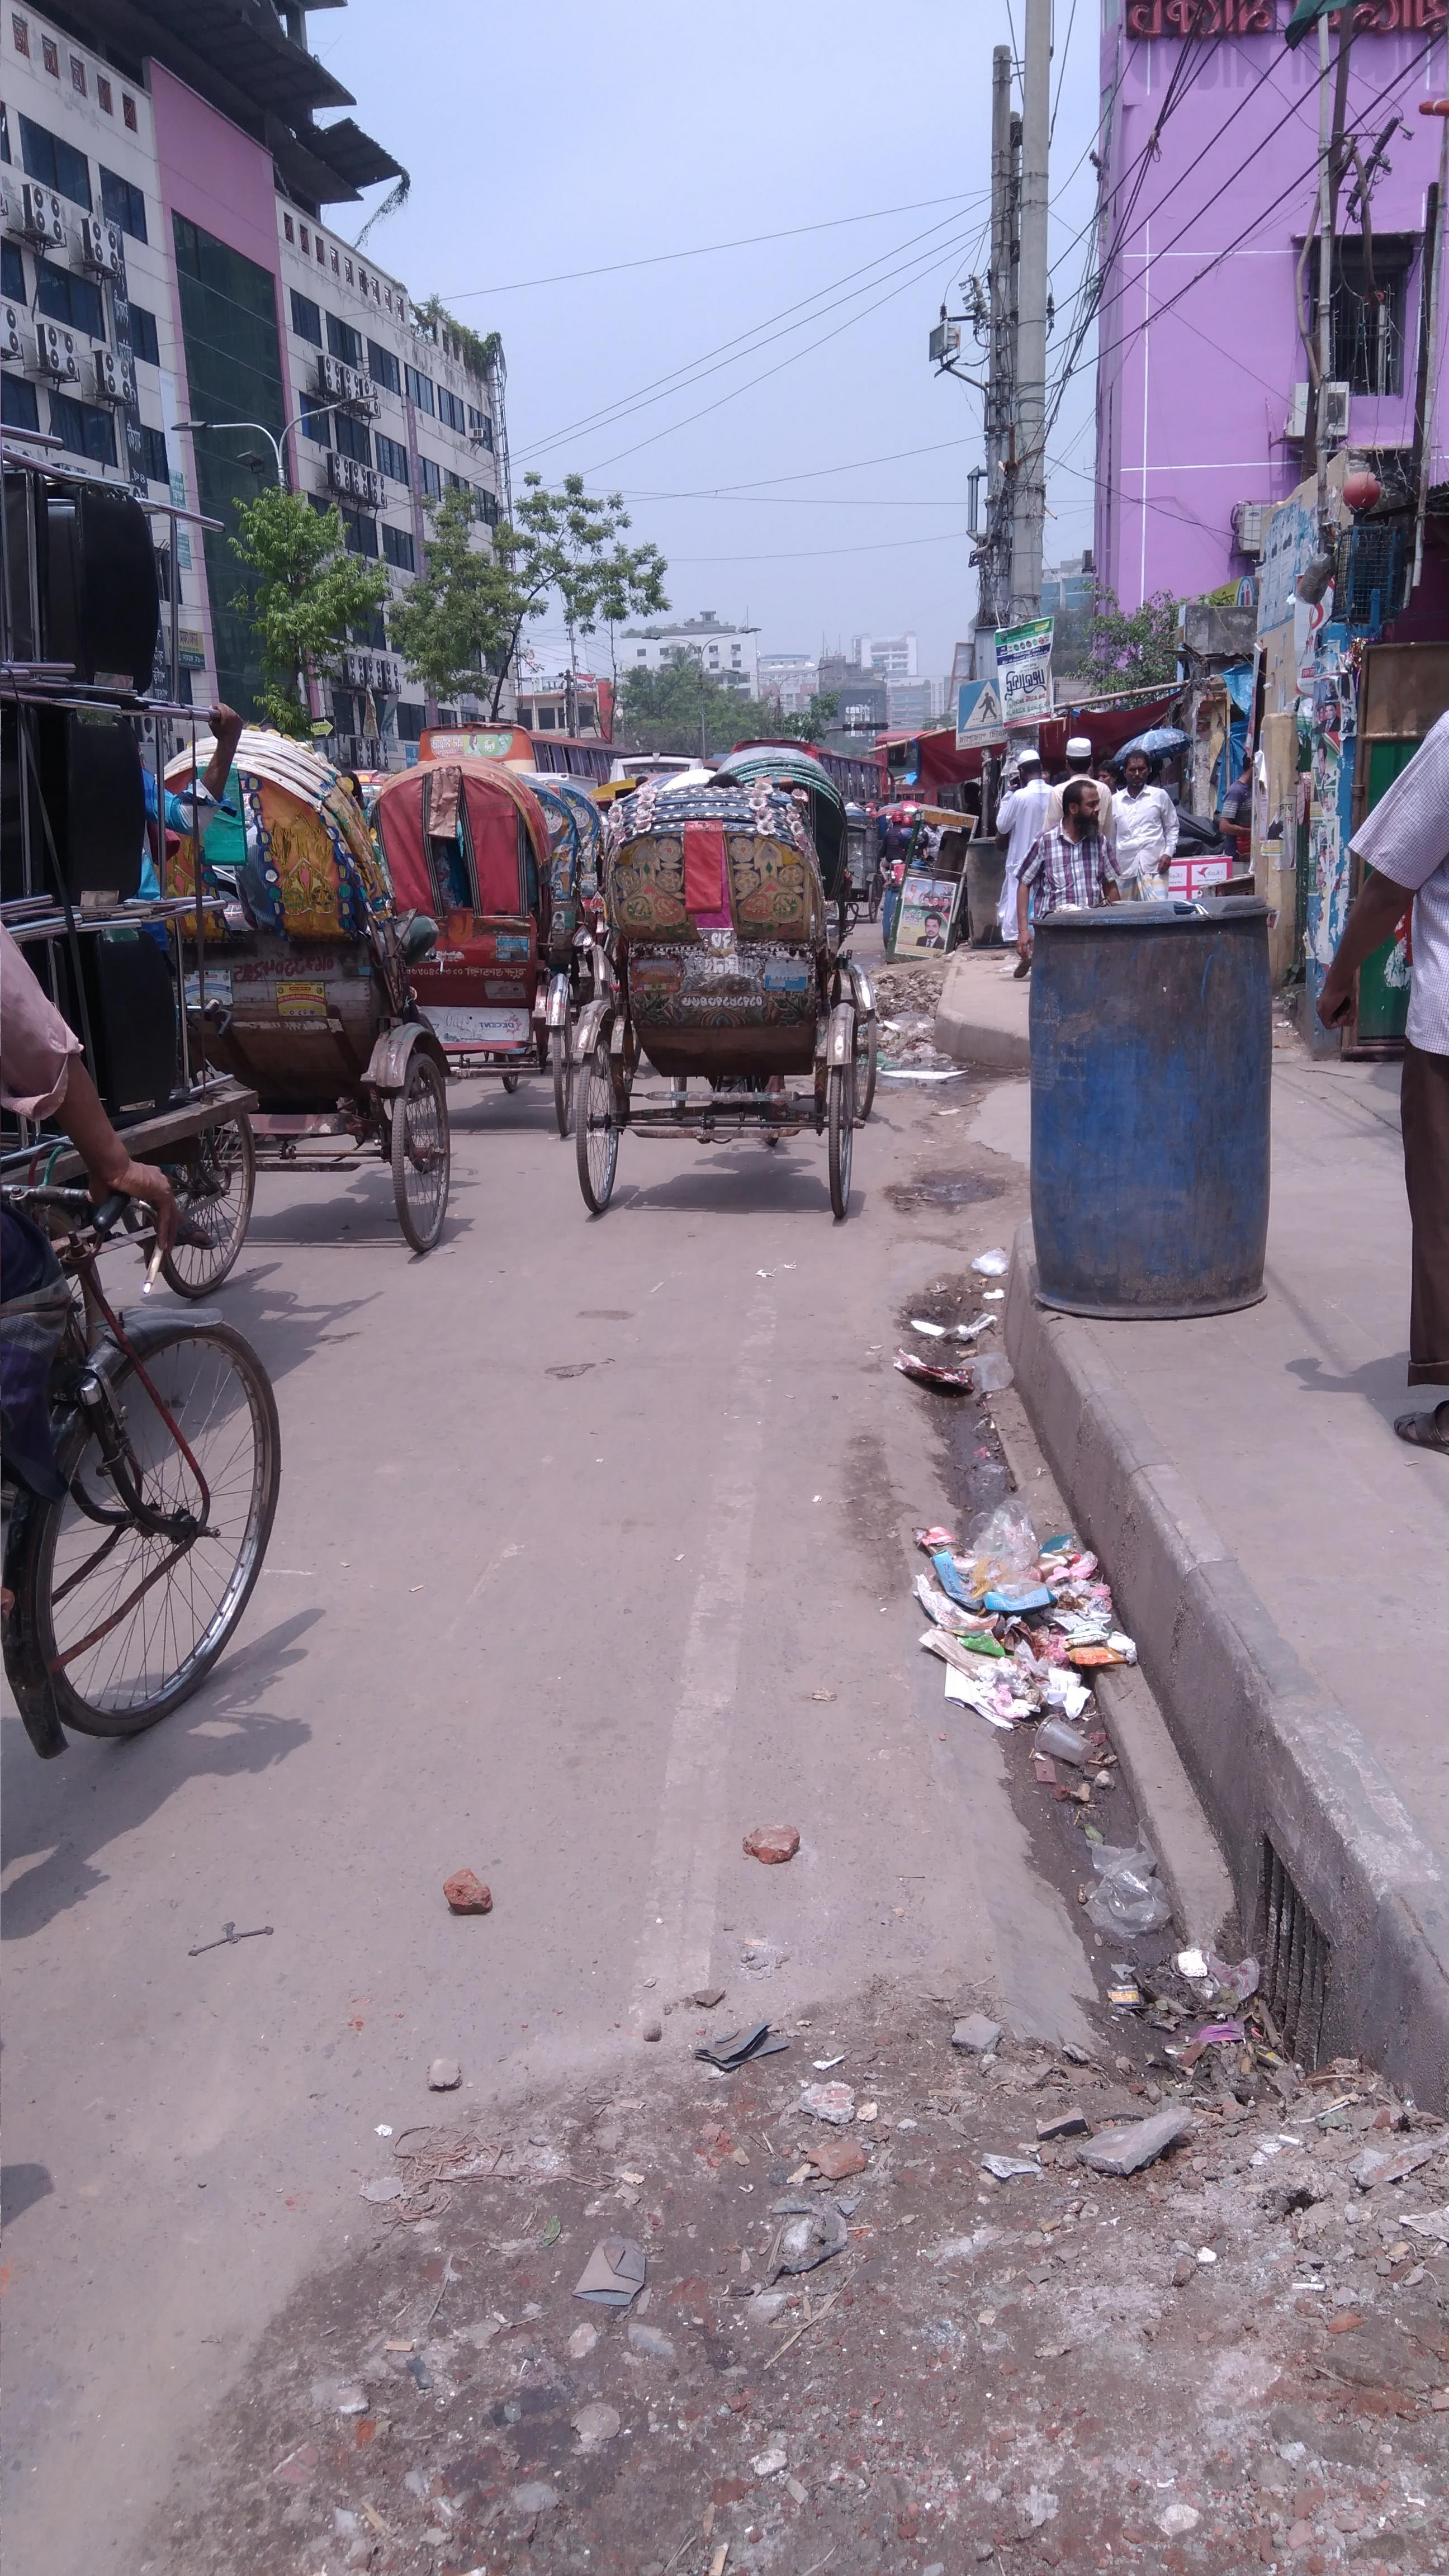Rickshaw: (145, 671, 506, 1274), (564, 745, 876, 1212), (370, 734, 580, 1115)
